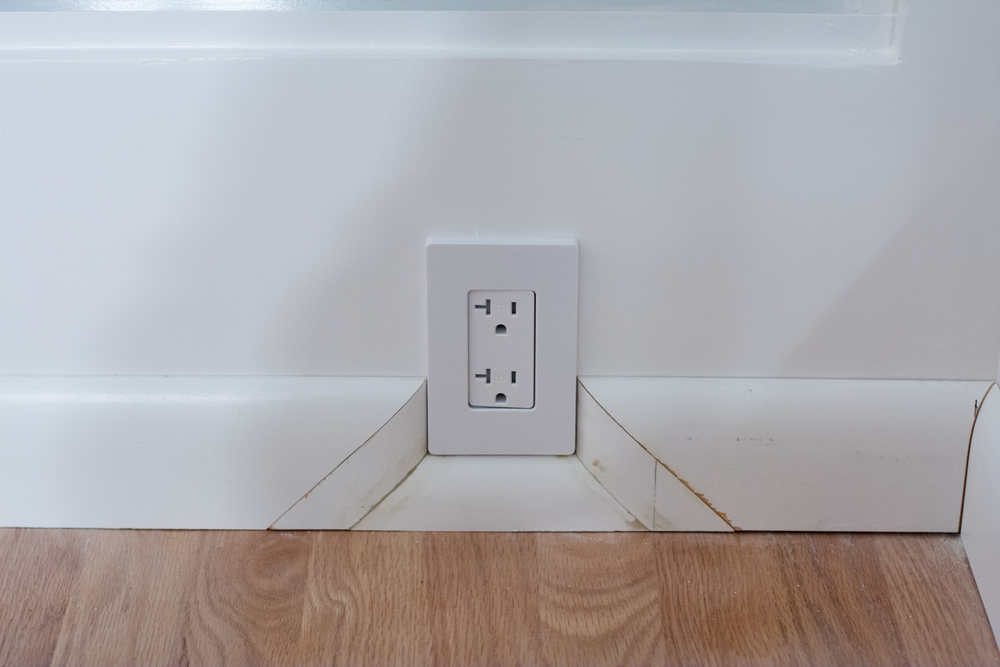outlet: (471, 365, 523, 406), (471, 296, 522, 336)
